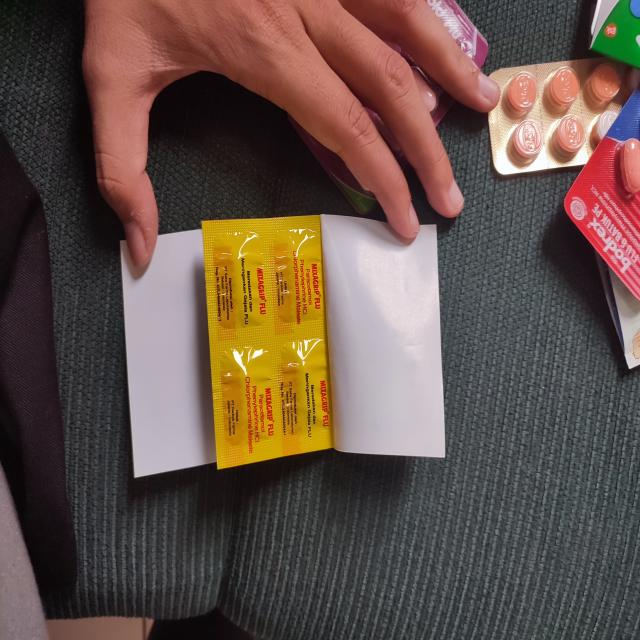B3: (119, 214, 446, 481), (487, 58, 639, 177), (565, 91, 640, 303)
